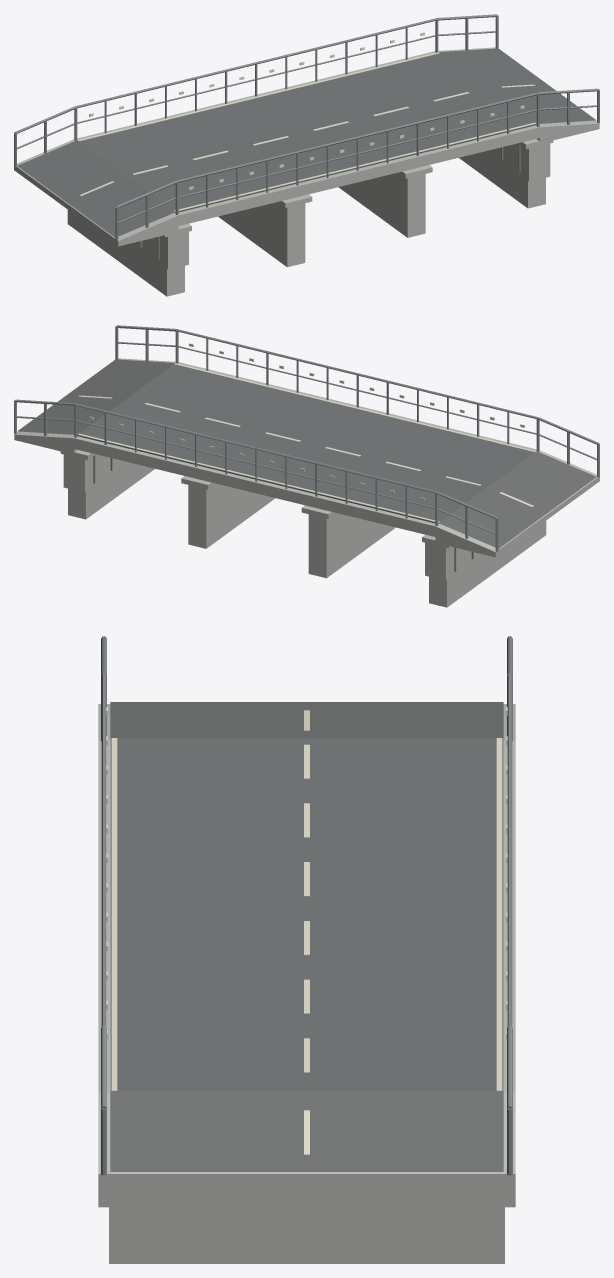
Rendered from Assembly_CarBridge_12m_Span.fbx.
3 views of the same model, one above another, from view 1: azimuth 30°, elevation 25°; view 2: azimuth 150°, elevation 25°; view 3: azimuth 270°, elevation 25° (orthographic). The views are drawn at different scales.
Parts seen in each view (by area): view 1: Assembly_CarBridge_12m_Span__00_Bridge_Car_StartRamp_2m, Assembly_CarBridge_12m_Span__04_Bridge_Car_Deck_2m, Assembly_CarBridge_12m_Span__02_Bridge_Car_Deck_2m, Assembly_CarBridge_12m_Span__03_Bridge_Car_Deck_2m, Assembly_CarBridge_12m_Span__05_Bridge_Car_Deck_2m, Assembly_CarBridge_12m_Span__01_Bridge_Car_Deck_2m, Assembly_CarBridge_12m_Span__06_Bridge_Car_Deck_2m, Assembly_CarBridge_12m_Span__07_Bridge_Car_EndRamp_2m, Assembly_CarBridge_12m_Span__09_Bridge_Car_Pier, Assembly_CarBridge_12m_Span__10_Bridge_Car_Pier, Assembly_CarBridge_12m_Span__08_Bridge_Car_Pier, Assembly_CarBridge_12m_Span__11_Bridge_Car_Pier (+2 smaller); view 2: Assembly_CarBridge_12m_Span__00_Bridge_Car_StartRamp_2m, Assembly_CarBridge_12m_Span__03_Bridge_Car_Deck_2m, Assembly_CarBridge_12m_Span__04_Bridge_Car_Deck_2m, Assembly_CarBridge_12m_Span__02_Bridge_Car_Deck_2m, Assembly_CarBridge_12m_Span__01_Bridge_Car_Deck_2m, Assembly_CarBridge_12m_Span__05_Bridge_Car_Deck_2m, Assembly_CarBridge_12m_Span__06_Bridge_Car_Deck_2m, Assembly_CarBridge_12m_Span__07_Bridge_Car_EndRamp_2m, Assembly_CarBridge_12m_Span__09_Bridge_Car_Pier, Assembly_CarBridge_12m_Span__10_Bridge_Car_Pier, Assembly_CarBridge_12m_Span__08_Bridge_Car_Pier, Assembly_CarBridge_12m_Span__11_Bridge_Car_Pier (+2 smaller); view 3: Assembly_CarBridge_12m_Span__07_Bridge_Car_EndRamp_2m, Assembly_CarBridge_12m_Span__01_Bridge_Car_Deck_2m, Assembly_CarBridge_12m_Span__05_Bridge_Car_Deck_2m, Assembly_CarBridge_12m_Span__02_Bridge_Car_Deck_2m, Assembly_CarBridge_12m_Span__03_Bridge_Car_Deck_2m, Assembly_CarBridge_12m_Span__04_Bridge_Car_Deck_2m, Assembly_CarBridge_12m_Span__06_Bridge_Car_Deck_2m, Assembly_CarBridge_12m_Span__11_Bridge_Car_Pier, Assembly_CarBridge_12m_Span__00_Bridge_Car_StartRamp_2m, Assembly_CarBridge_12m_Span__13_Bridge_Car_Abutment.
Part boxes in pixels (bbox=[...]): Assembly_CarBridge_12m_Span__00_Bridge_Car_StartRamp_2m: bbox=[14, 106, 178, 246]; Assembly_CarBridge_12m_Span__04_Bridge_Car_Deck_2m: bbox=[256, 47, 419, 181]; Assembly_CarBridge_12m_Span__02_Bridge_Car_Deck_2m: bbox=[134, 77, 298, 211]; Assembly_CarBridge_12m_Span__03_Bridge_Car_Deck_2m: bbox=[196, 62, 358, 196]; Assembly_CarBridge_12m_Span__05_Bridge_Car_Deck_2m: bbox=[316, 33, 479, 167]; Assembly_CarBridge_12m_Span__01_Bridge_Car_Deck_2m: bbox=[75, 91, 238, 225]; Assembly_CarBridge_12m_Span__06_Bridge_Car_Deck_2m: bbox=[376, 18, 539, 152]; Assembly_CarBridge_12m_Span__07_Bridge_Car_EndRamp_2m: bbox=[435, 14, 599, 142]; Assembly_CarBridge_12m_Span__09_Bridge_Car_Pier: bbox=[218, 194, 312, 267]; Assembly_CarBridge_12m_Span__10_Bridge_Car_Pier: bbox=[338, 165, 432, 237]; Assembly_CarBridge_12m_Span__08_Bridge_Car_Pier: bbox=[67, 210, 191, 296]; Assembly_CarBridge_12m_Span__11_Bridge_Car_Pier: bbox=[459, 138, 553, 208]; Assembly_CarBridge_12m_Span__00_Bridge_Car_StartRamp_2m: bbox=[435, 417, 599, 557]; Assembly_CarBridge_12m_Span__03_Bridge_Car_Deck_2m: bbox=[255, 373, 417, 507]; Assembly_CarBridge_12m_Span__04_Bridge_Car_Deck_2m: bbox=[194, 358, 357, 492]; Assembly_CarBridge_12m_Span__02_Bridge_Car_Deck_2m: bbox=[315, 388, 479, 522]; Assembly_CarBridge_12m_Span__01_Bridge_Car_Deck_2m: bbox=[375, 402, 538, 536]; Assembly_CarBridge_12m_Span__05_Bridge_Car_Deck_2m: bbox=[134, 344, 297, 478]; Assembly_CarBridge_12m_Span__06_Bridge_Car_Deck_2m: bbox=[74, 329, 237, 463]; Assembly_CarBridge_12m_Span__07_Bridge_Car_EndRamp_2m: bbox=[14, 325, 178, 454]; Assembly_CarBridge_12m_Span__09_Bridge_Car_Pier: bbox=[301, 505, 395, 578]; Assembly_CarBridge_12m_Span__10_Bridge_Car_Pier: bbox=[181, 476, 275, 548]; Assembly_CarBridge_12m_Span__08_Bridge_Car_Pier: bbox=[422, 521, 546, 607]; Assembly_CarBridge_12m_Span__11_Bridge_Car_Pier: bbox=[60, 450, 154, 519]; Assembly_CarBridge_12m_Span__07_Bridge_Car_EndRamp_2m: bbox=[98, 1025, 515, 1184]; Assembly_CarBridge_12m_Span__01_Bridge_Car_Deck_2m: bbox=[98, 673, 515, 799]; Assembly_CarBridge_12m_Span__05_Bridge_Car_Deck_2m: bbox=[98, 908, 515, 1034]; Assembly_CarBridge_12m_Span__02_Bridge_Car_Deck_2m: bbox=[98, 732, 515, 858]; Assembly_CarBridge_12m_Span__03_Bridge_Car_Deck_2m: bbox=[98, 791, 515, 916]; Assembly_CarBridge_12m_Span__04_Bridge_Car_Deck_2m: bbox=[98, 849, 515, 975]; Assembly_CarBridge_12m_Span__06_Bridge_Car_Deck_2m: bbox=[98, 967, 515, 1093]; Assembly_CarBridge_12m_Span__11_Bridge_Car_Pier: bbox=[109, 1207, 504, 1263]; Assembly_CarBridge_12m_Span__00_Bridge_Car_StartRamp_2m: bbox=[98, 636, 515, 741]; Assembly_CarBridge_12m_Span__13_Bridge_Car_Abutment: bbox=[98, 1184, 515, 1207].
Bounding box in the file's own units: 1609 × 365 × 600.
